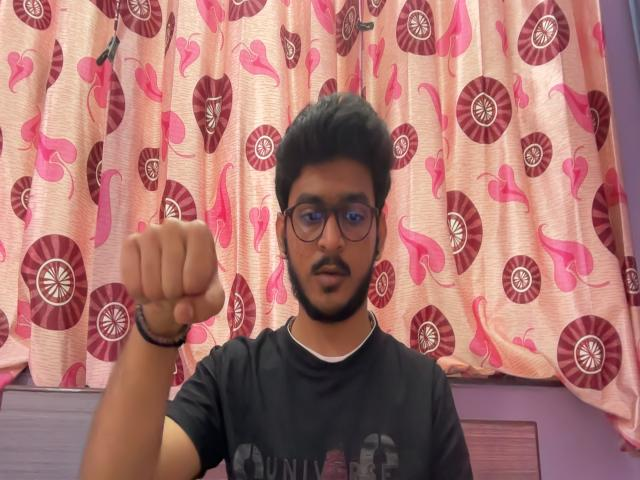Yes: (119, 217, 232, 338)
